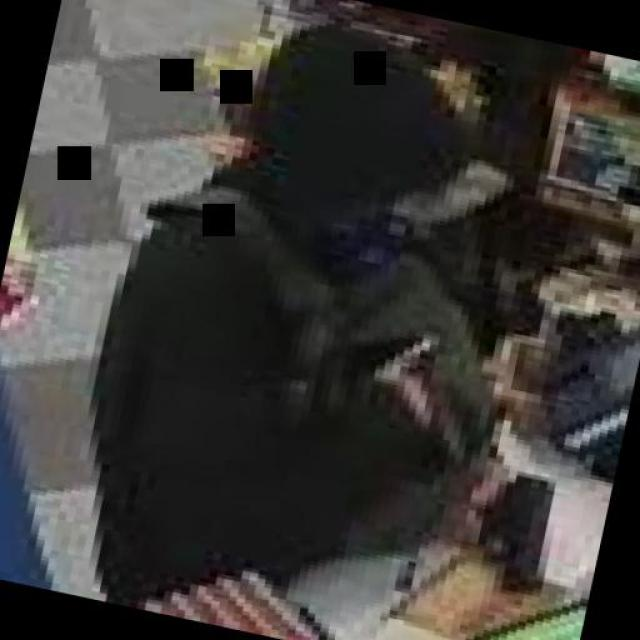gun: (436, 449, 566, 601)
